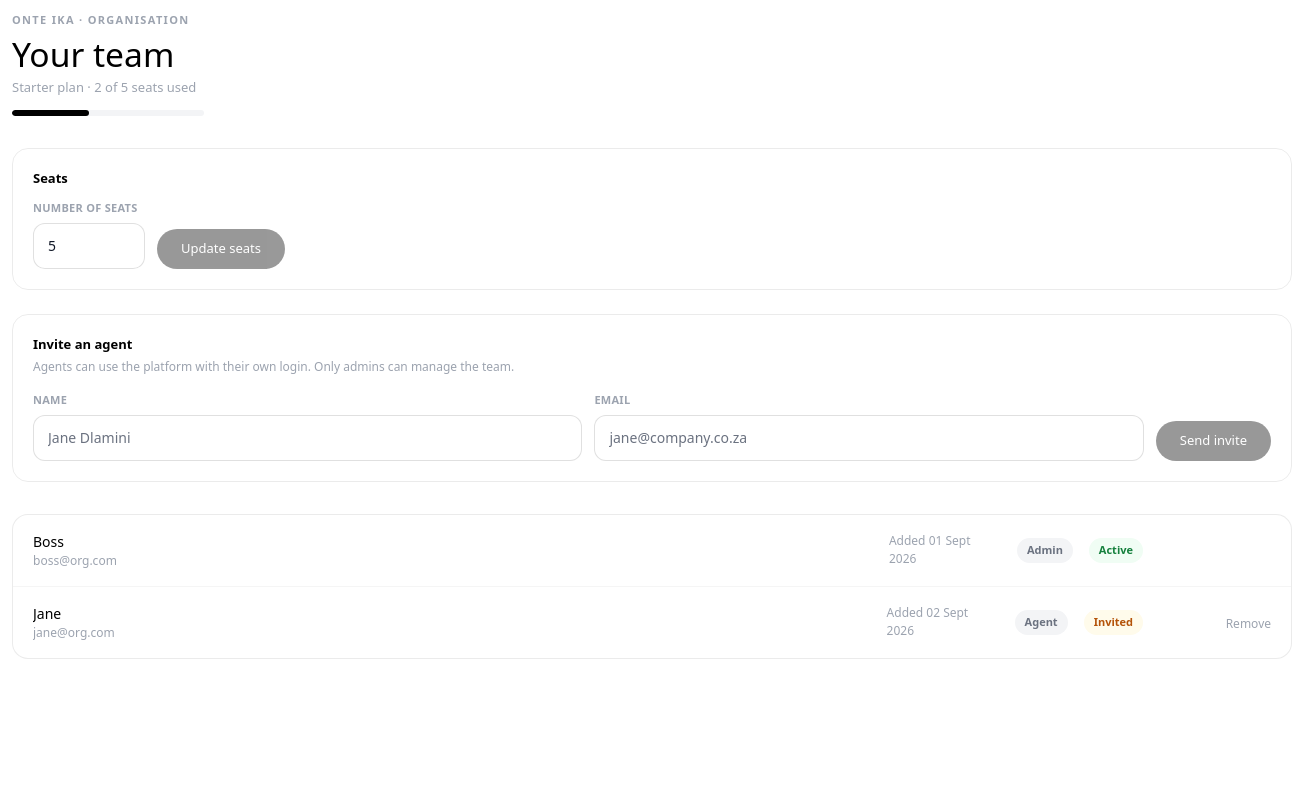
Test: Team page › on the paid plan › saves the seat count and tells the admin the price applies from the next invoice
Replace the text in the number field labelled "Number of seats" with "7" at (89,246), box 33,223 -> 145,269
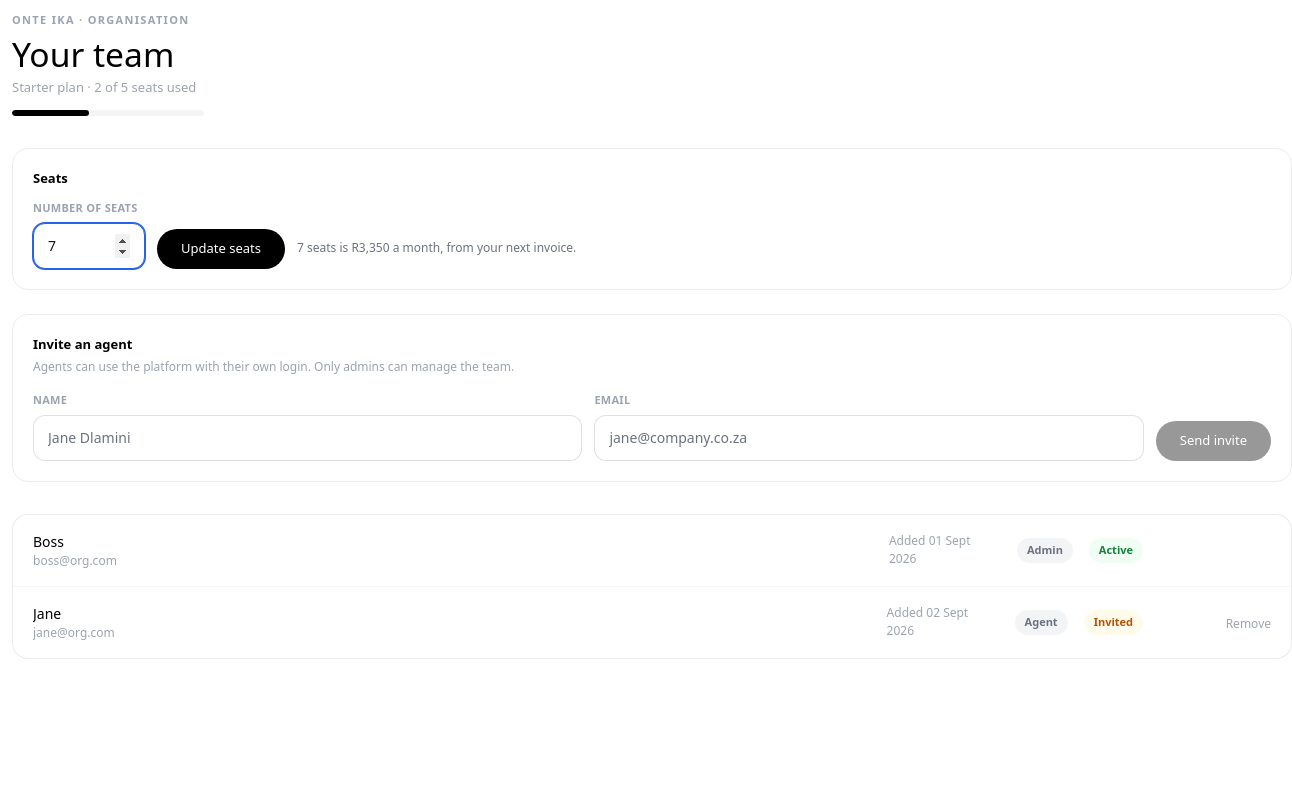
Click the button "Update seats".
click(221, 249)  # box 157,230 -> 285,269
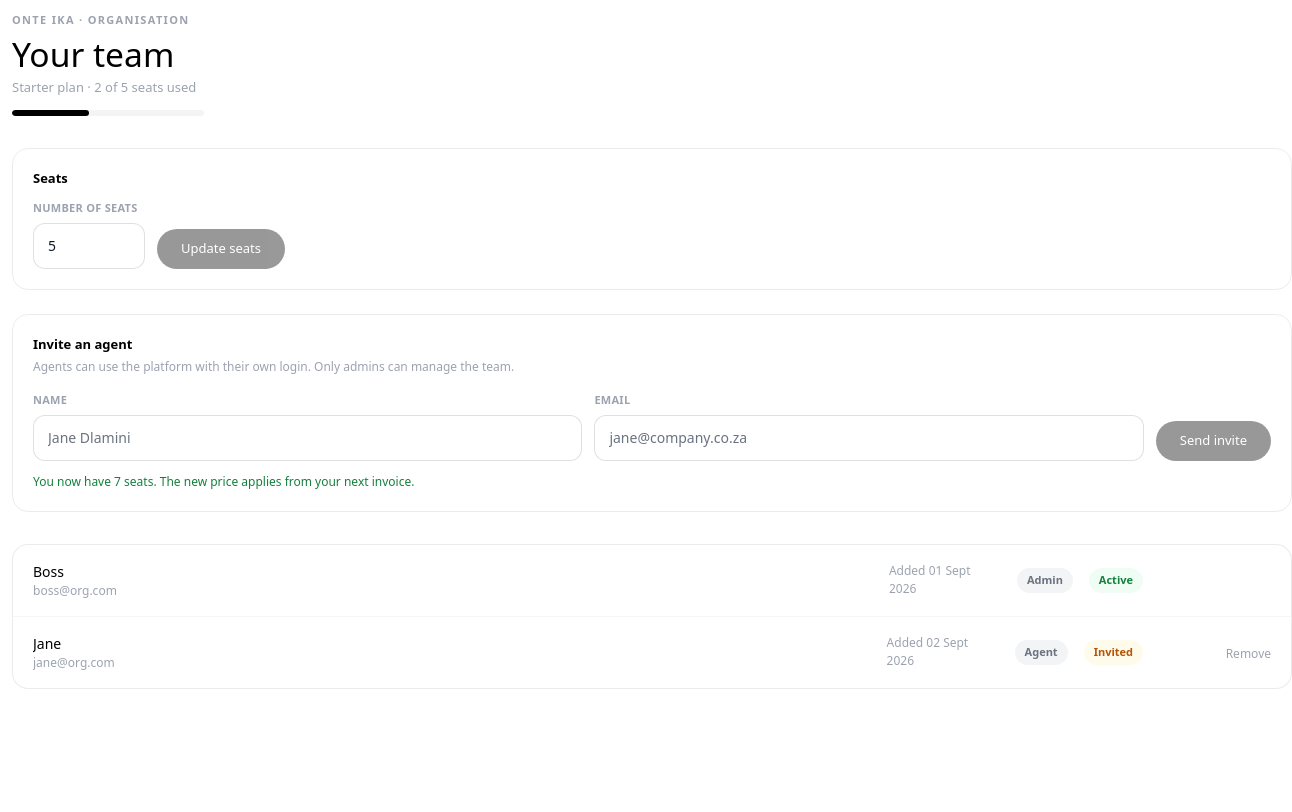
Now the message reads "You now have 7 seats. The new price applies from your next invoice.", box 33,473 -> 414,490
